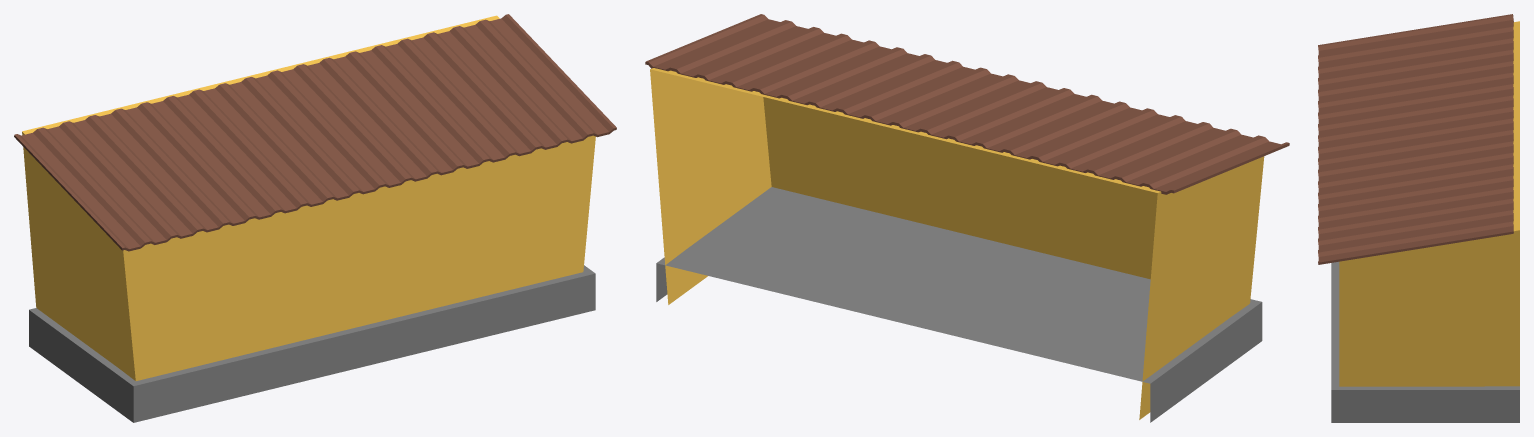
The model's file is House (Annex).fbx.
3 renders of one model, left to right at view 1: azimuth 30°, elevation 25°; view 2: azimuth 150°, elevation 25°; view 3: azimuth 270°, elevation 25°, orthographic. The views are drawn at different scales.
Parts seen in each view (by area): view 1: House (Annex); view 2: House (Annex); view 3: House (Annex).
Part boxes in pixels (x1=…): House (Annex): x1=14, y1=14, x2=616, y2=422; House (Annex): x1=645, y1=14, x2=1289, y2=422; House (Annex): x1=1318, y1=14, x2=1519, y2=422.
Bounding box in the file's own units: 2066 × 874 × 810.
